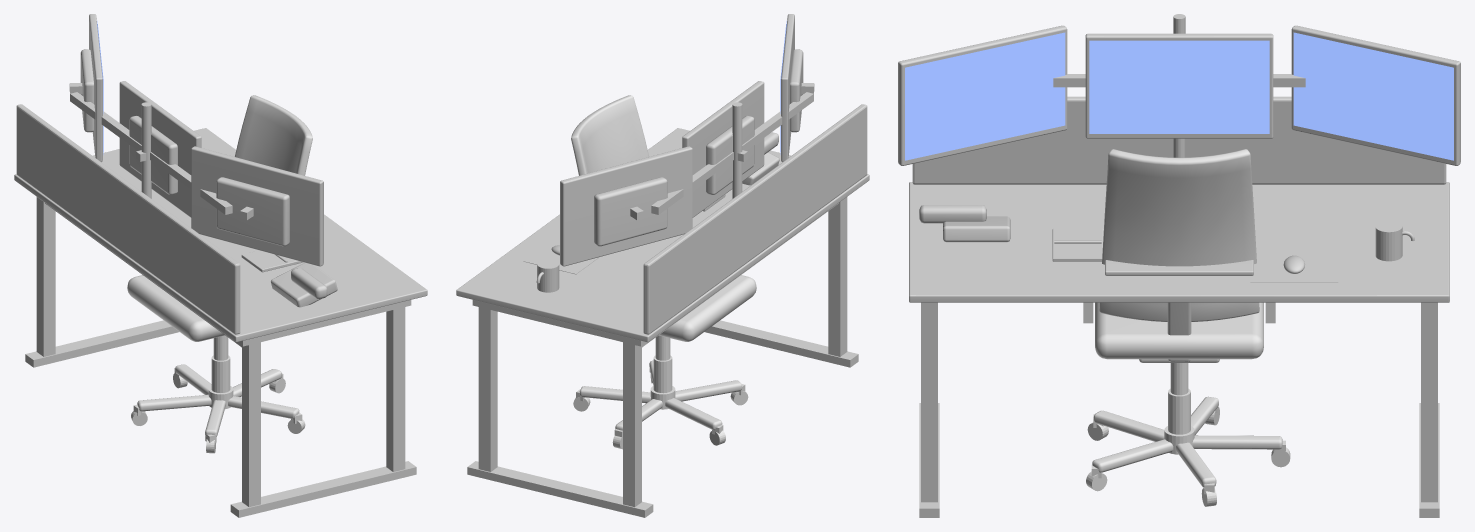
File: alpha_kit.glb
The picture shows the model from 3 angles, left to right: view 1: azimuth 30°, elevation 25°; view 2: azimuth 150°, elevation 25°; view 3: azimuth 270°, elevation 25°; orthographic projection. The views are drawn at different scales.
Visible parts, largest first — view 1: kit_desk, kit_chair; view 2: kit_desk, kit_chair; view 3: kit_desk, kit_chair, kitscr_c, kitscr_n, kitscr_p.
Boxes of the visible parts, bbox=[...] form: kit_desk: bbox=[14, 14, 427, 517]; kit_chair: bbox=[127, 95, 312, 453]; kit_desk: bbox=[456, 14, 869, 517]; kit_chair: bbox=[571, 95, 756, 449]; kit_desk: bbox=[898, 14, 1460, 517]; kit_chair: bbox=[1083, 149, 1290, 506]; kitscr_c: bbox=[1089, 40, 1269, 133]; kitscr_n: bbox=[905, 32, 1065, 160]; kitscr_p: bbox=[1293, 32, 1453, 160].
Bounding box in the file's own units: 0.8 × 1.32 × 1.67.
